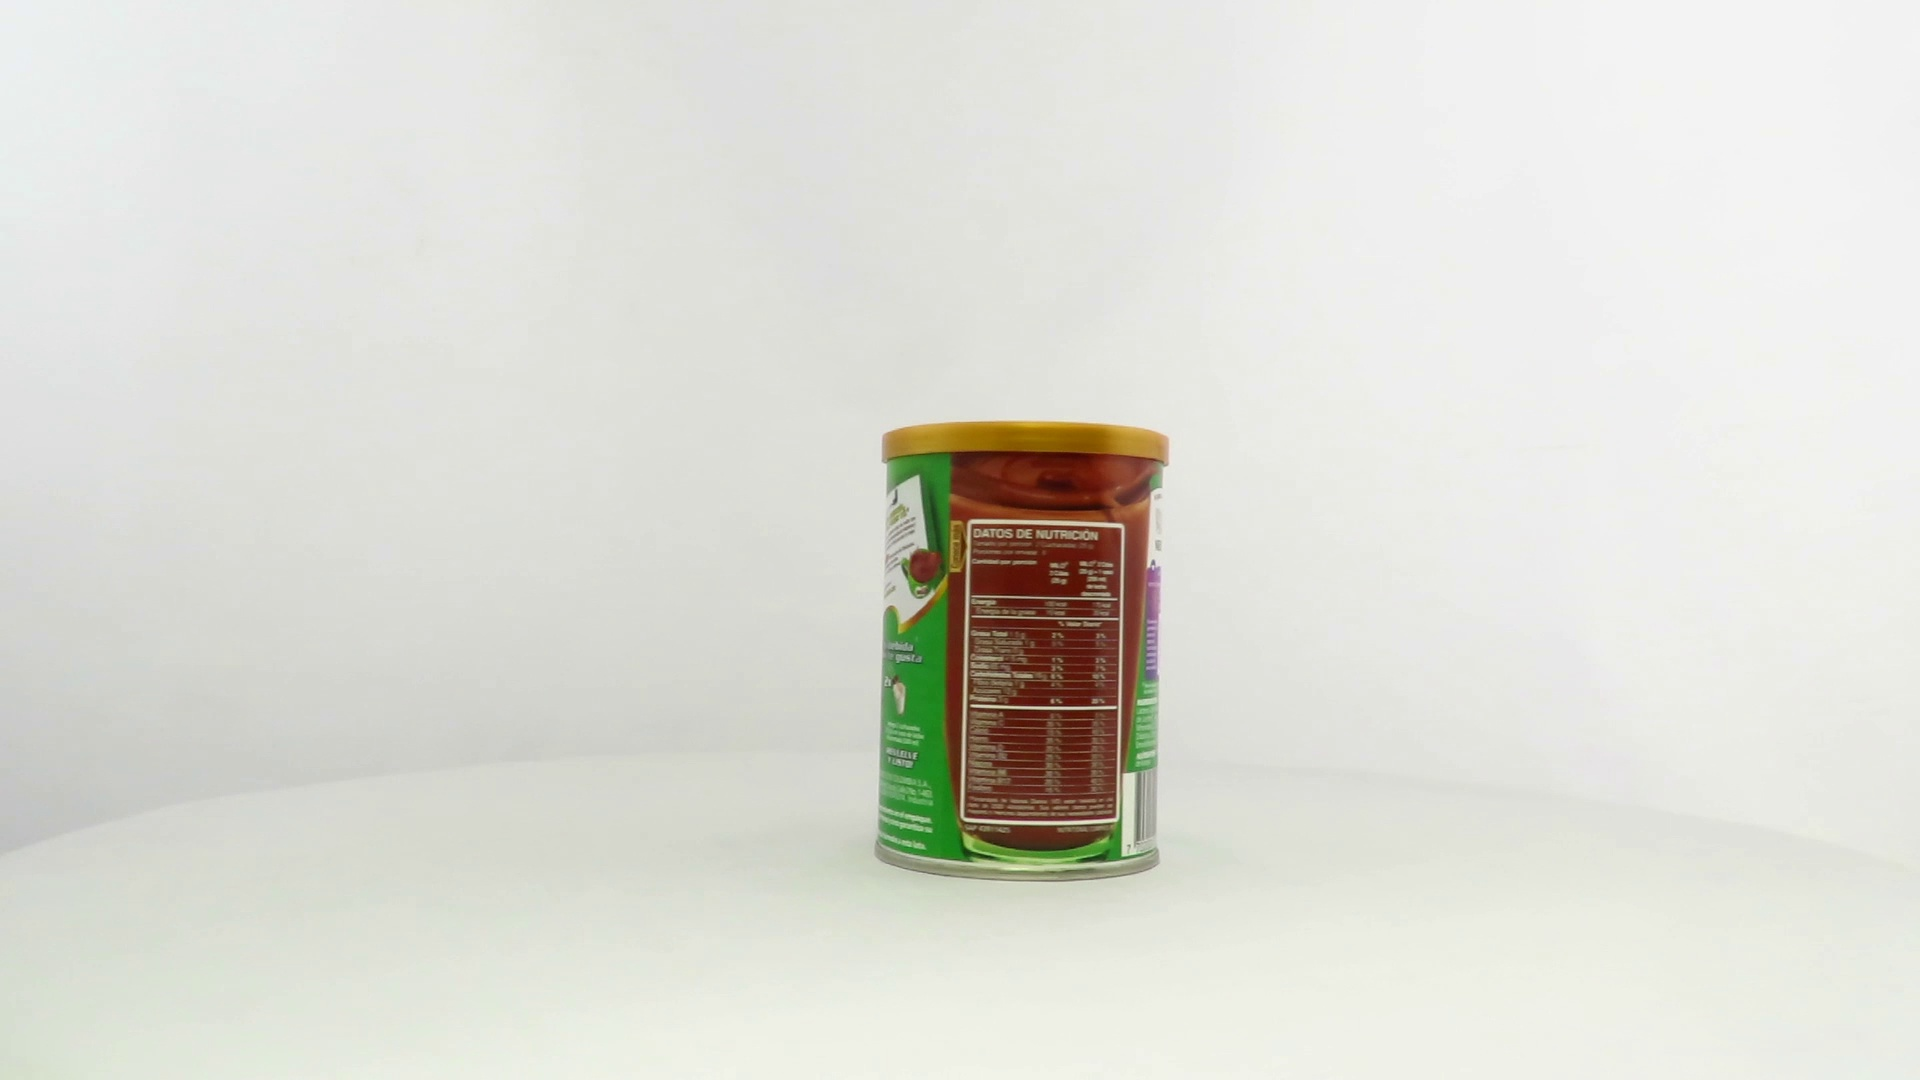COL0170203LAT20000: (869, 415, 1175, 891)
